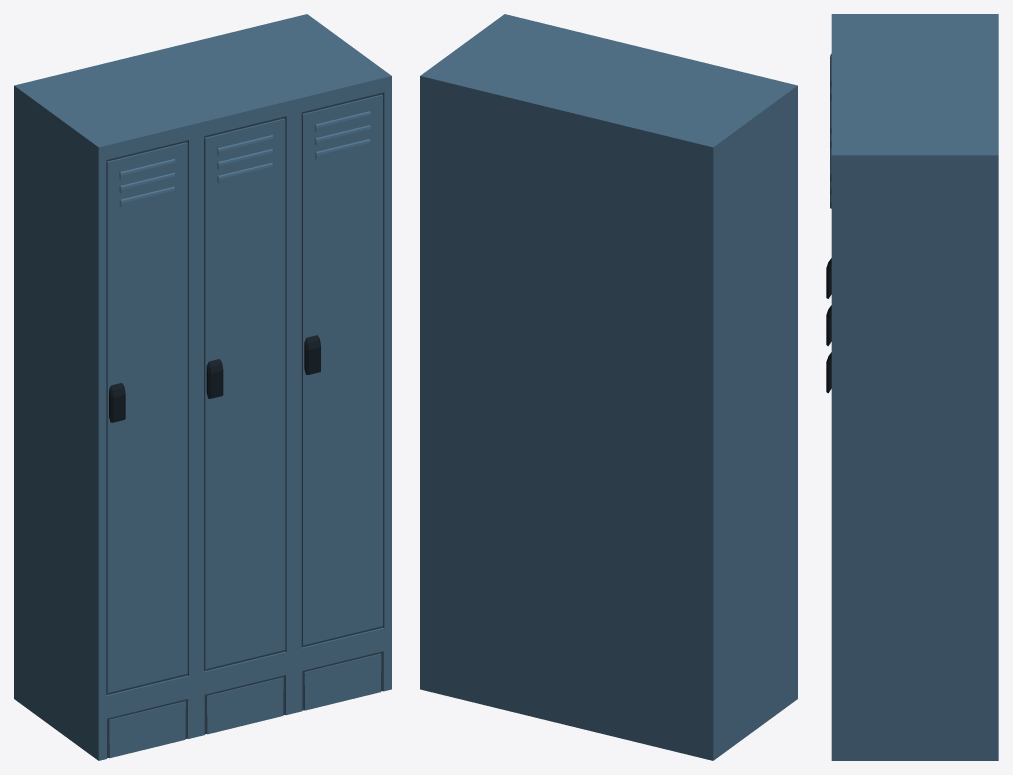
File: Lockers.fbx
3 renders of one model, left to right at view 1: azimuth 30°, elevation 25°; view 2: azimuth 150°, elevation 25°; view 3: azimuth 270°, elevation 25°, orthographic.
Visible parts, largest first — view 1: Locker; view 2: Locker; view 3: Locker.
Part boxes in pixels (bbox=[...]): Locker: bbox=[14, 14, 391, 760]; Locker: bbox=[420, 14, 797, 760]; Locker: bbox=[826, 14, 998, 760].
Size of the model in its own units: 100 by 200 by 51.57.
